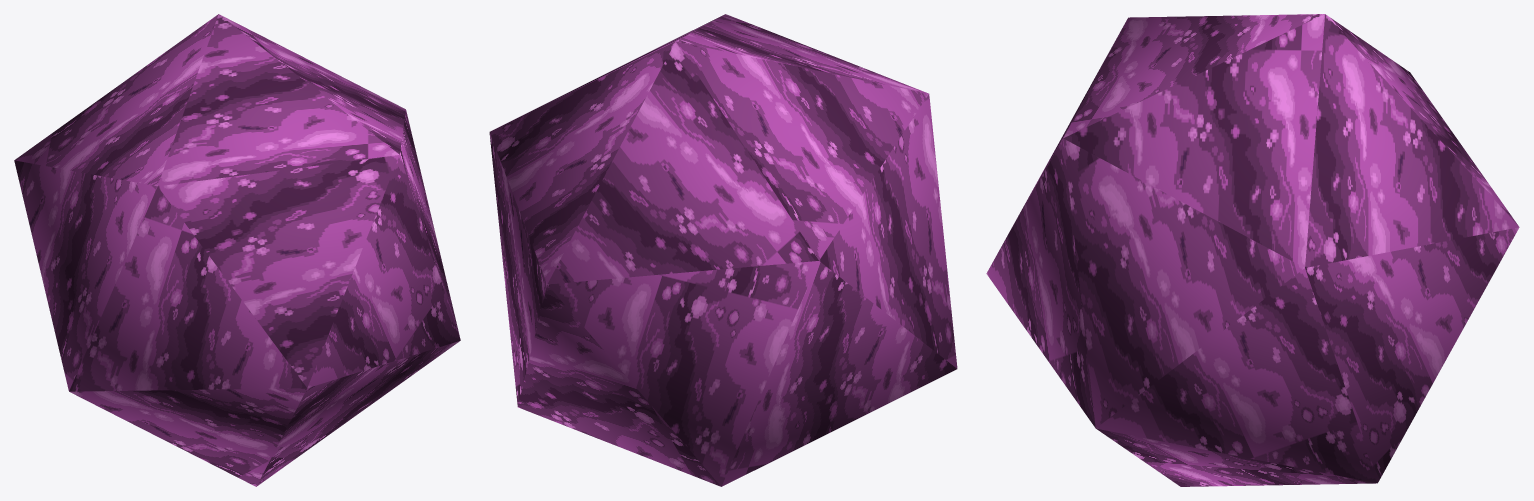
File: ball animtest.fbx
3 views of the same model, side by side, from view 1: azimuth 30°, elevation 25°; view 2: azimuth 150°, elevation 25°; view 3: azimuth 270°, elevation 25° (orthographic). The views are drawn at different scales.
Parts seen in each view (by area): view 1: Icosphere.002; view 2: Icosphere.002; view 3: Icosphere.002.
Part boxes in pixels (box(x1,y1,x2,y2)): Icosphere.002: box(14, 14, 460, 486); Icosphere.002: box(489, 14, 957, 486); Icosphere.002: box(986, 14, 1519, 486).
Size of the model in its own units: 1153 by 1214 by 1205.
